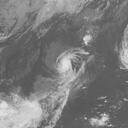cyclone: (54, 47, 94, 90)
